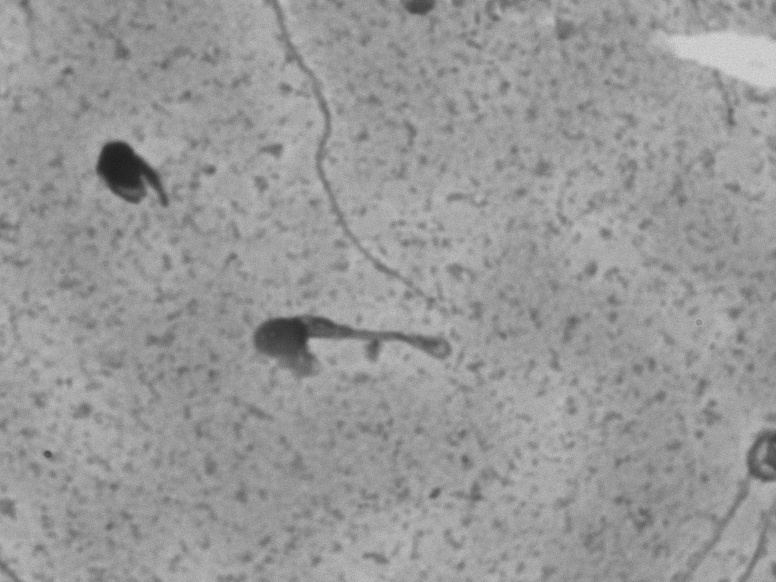Abnormal: (236, 288, 469, 420)
